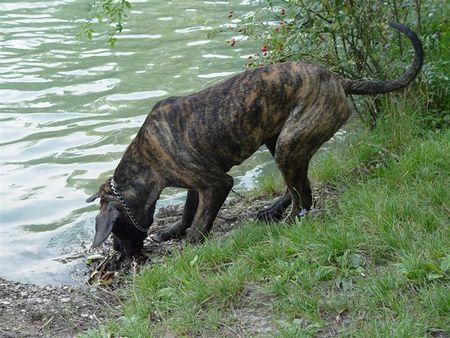fila_brasileiro: (86, 19, 424, 266)
